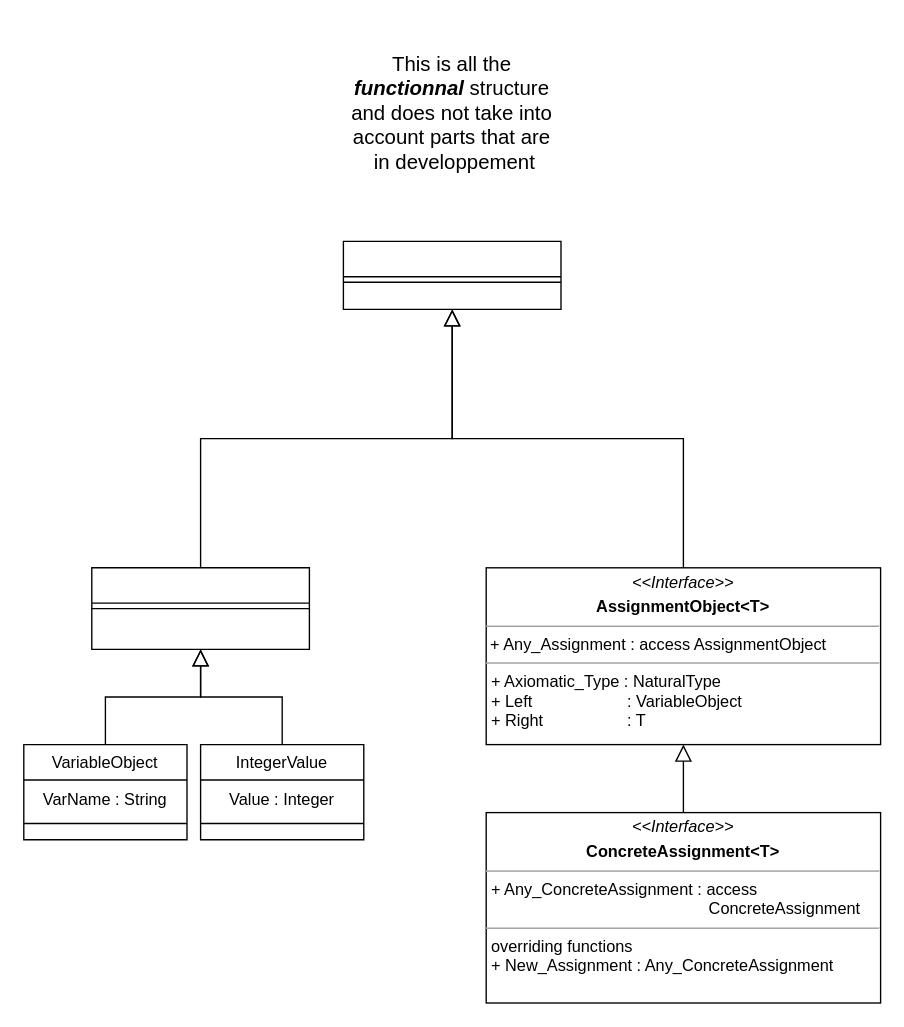
Some shapes in this 904 by 1027 pixel diagram are drawn without their labels. The box of each missing label's shape, as (x1, y1, x2, y2) in pixels:
RootObject: (342, 240, 561, 309)
VarObject: (90, 566, 309, 649)
